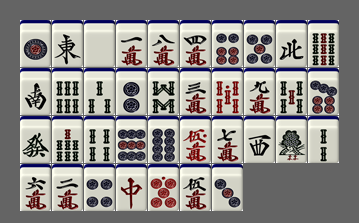0m: (180, 116, 211, 163)
0p: (148, 164, 179, 211)
0s: (212, 68, 243, 115)
1m: (116, 20, 147, 67)
1p: (20, 20, 51, 67)
1s: (276, 116, 307, 163)
1z: (52, 20, 83, 67)
2m: (52, 164, 83, 211)
2p: (116, 68, 147, 115)
2s: (308, 116, 339, 163)
2z: (20, 68, 51, 115)
3m: (180, 68, 211, 115)
3p: (212, 164, 243, 211)
3s: (84, 68, 115, 115)
3z: (244, 116, 275, 163)
4m: (180, 20, 211, 67)
4p: (84, 164, 115, 211)
4s: (84, 116, 115, 163)
4z: (276, 20, 307, 67)
5m: (180, 164, 211, 211)
5p: (244, 20, 275, 67)
5s: (276, 68, 307, 115)
5z: (84, 20, 115, 67)
6m: (20, 164, 51, 211)
6p: (212, 20, 243, 67)
6s: (52, 68, 83, 115)
6z: (20, 116, 51, 163)
7m: (212, 116, 243, 163)
7p: (308, 68, 339, 115)
7s: (52, 116, 83, 163)
7z: (116, 164, 147, 211)
8m: (148, 20, 179, 67)
8p: (148, 116, 179, 163)
8s: (148, 68, 179, 115)
9m: (244, 68, 275, 115)
9p: (116, 116, 147, 163)
9s: (308, 20, 339, 67)
